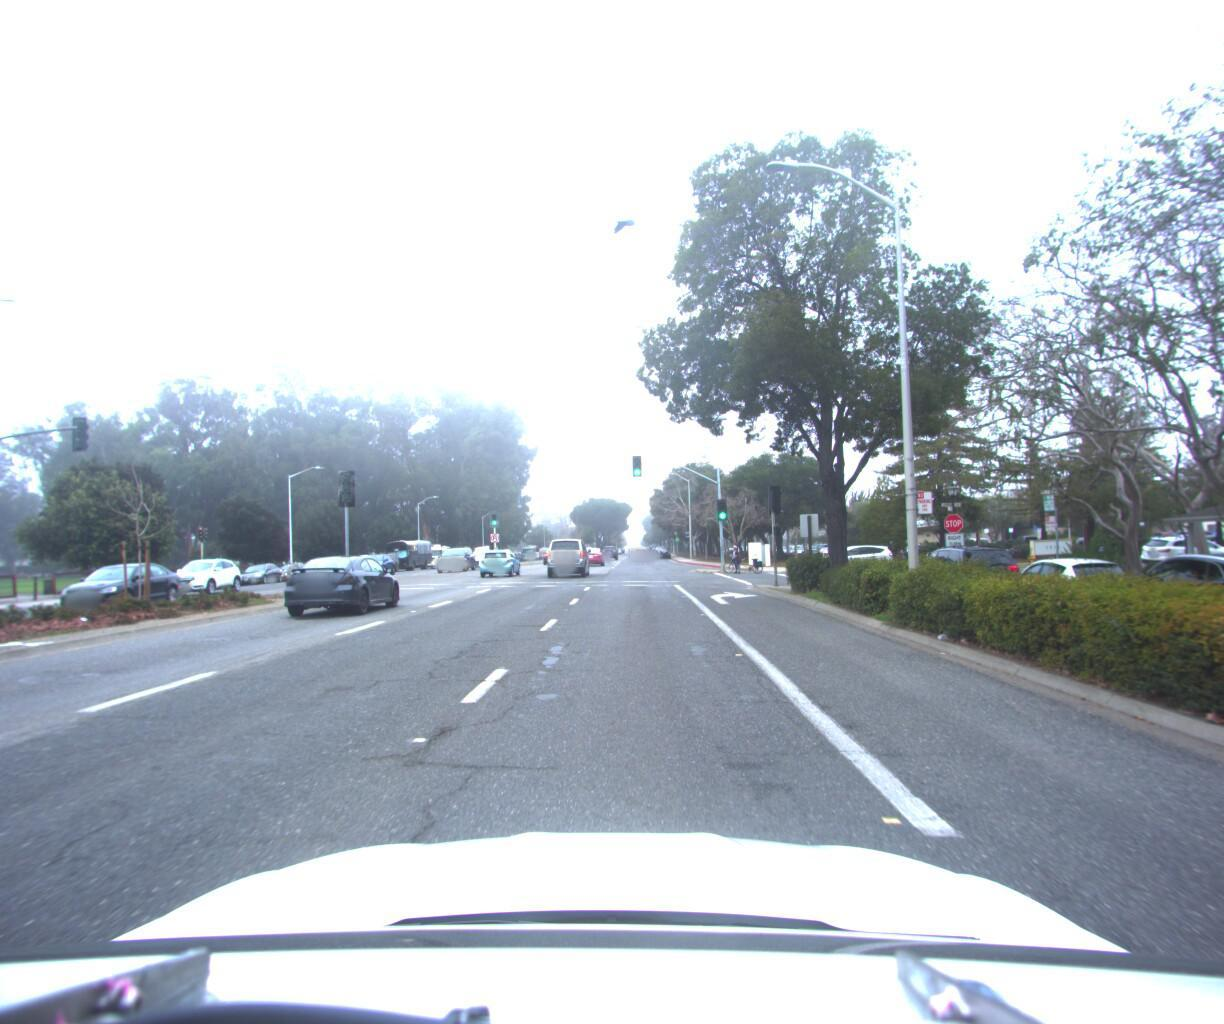bicycle: (714, 536, 763, 570)
car: (1078, 541, 1224, 650), (980, 545, 1146, 617), (276, 549, 407, 619), (48, 561, 191, 623), (897, 533, 1025, 599), (1124, 524, 1224, 563), (161, 555, 249, 597), (802, 536, 894, 567), (540, 533, 591, 576), (230, 557, 288, 584), (475, 544, 521, 574), (433, 540, 476, 570), (576, 540, 604, 561), (631, 538, 650, 556)
